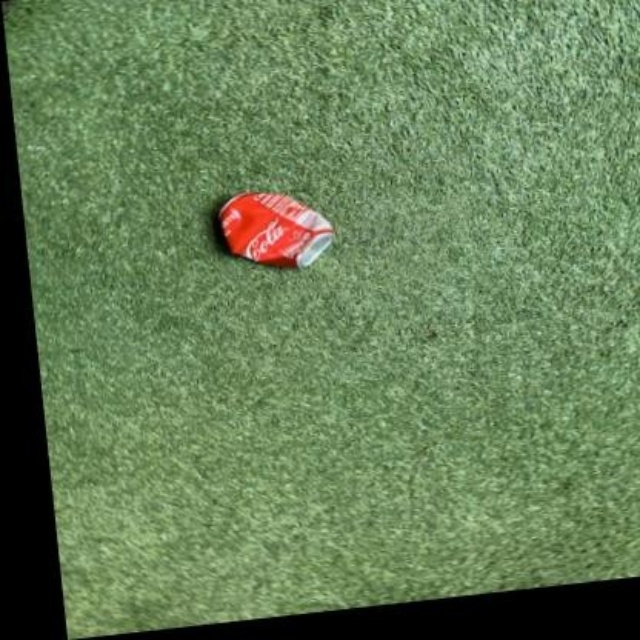trash: (218, 192, 332, 266)
